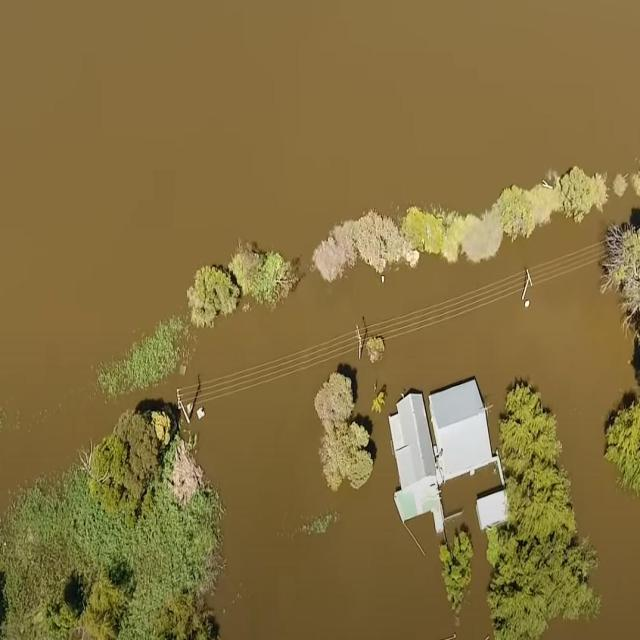flood: (0, 1, 640, 639)
house: (427, 372, 496, 478), (388, 390, 436, 498)
